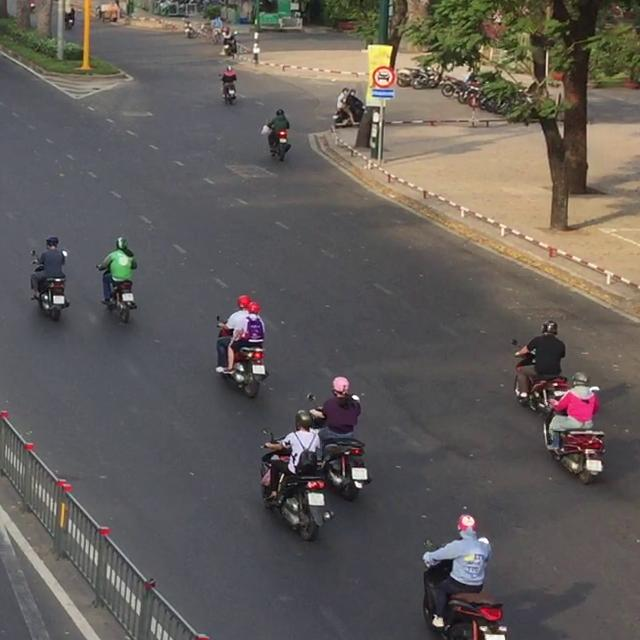Motorcycle: (258, 427, 335, 541), (420, 544, 509, 639), (307, 392, 372, 501), (541, 397, 605, 484), (214, 315, 268, 398), (511, 338, 570, 413), (29, 249, 70, 321), (95, 262, 137, 323), (261, 120, 291, 161)
